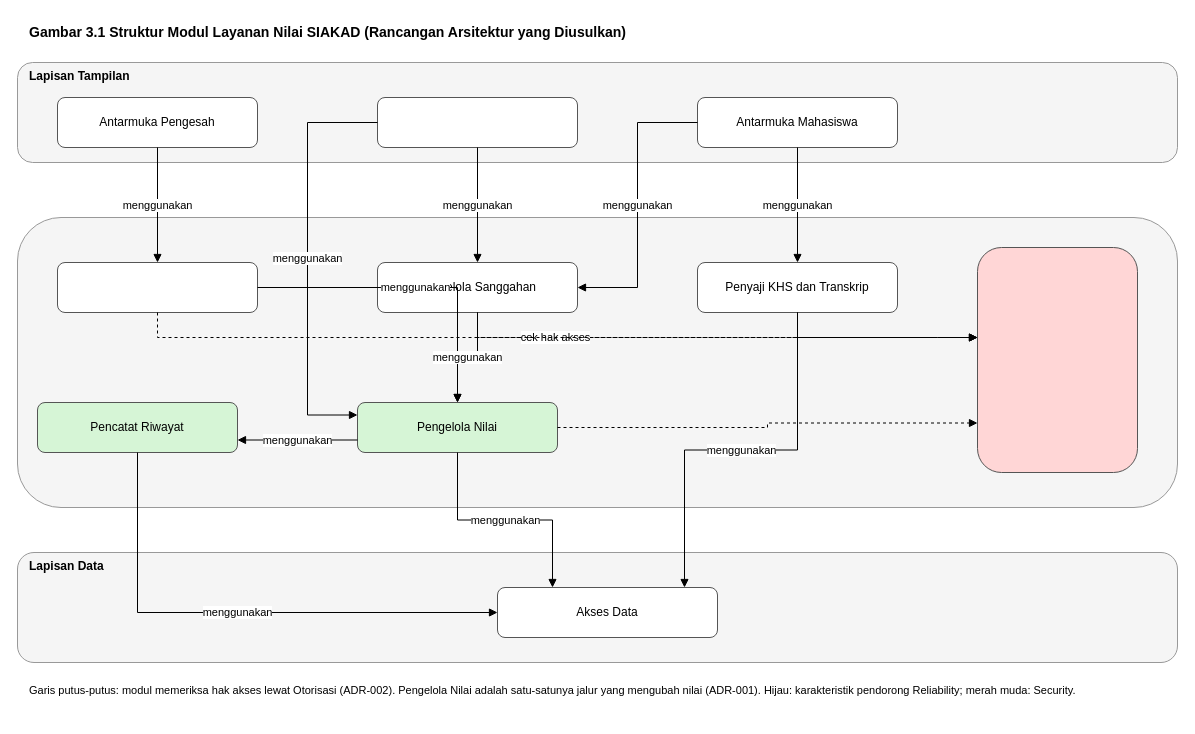
This 1195x734 diagram has some shape labels left out. Here are the shapes that lost their labels. From the top down, the box of each, then its label:
(376, 96, 578, 148): Antarmuka Dosen
(56, 262, 258, 312): Pengesahan Nilai
(16, 216, 1178, 508): Lapisan Logika
(976, 246, 1138, 472): Otorisasi
